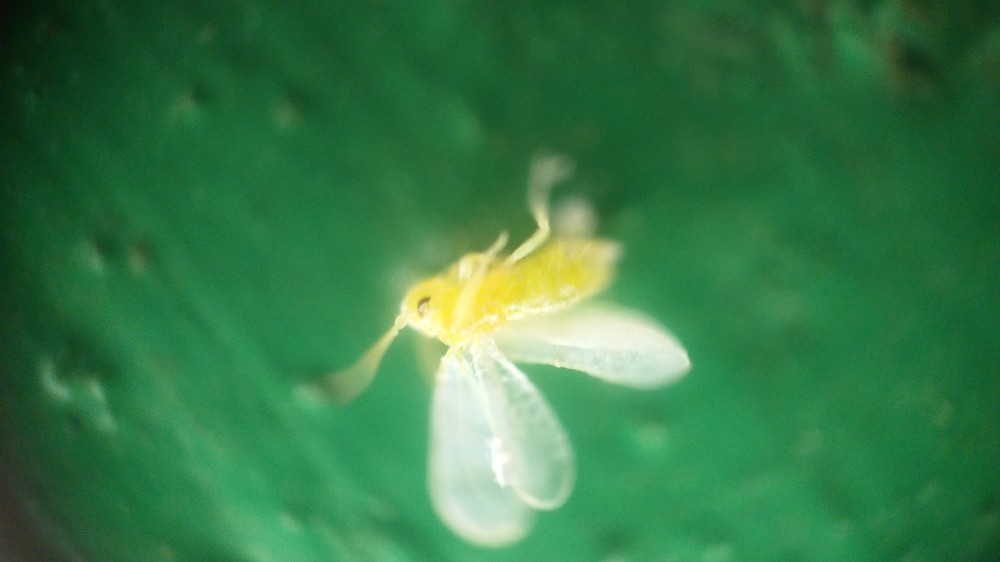Mosca Blanca: (313, 147, 722, 556)
